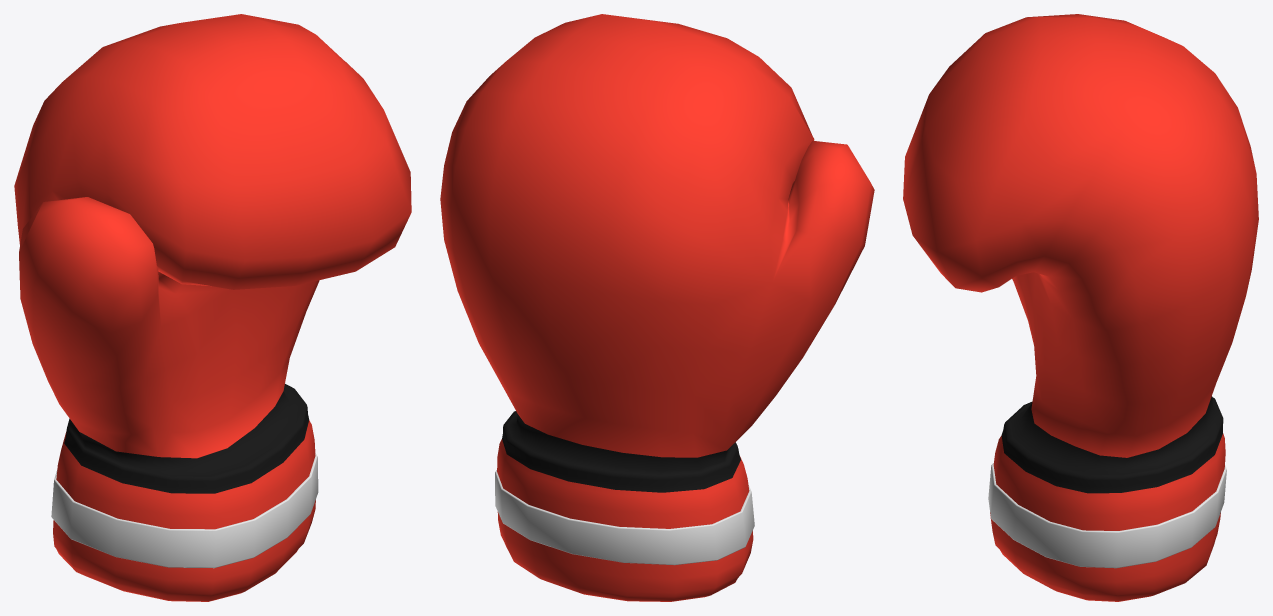
The model's file is Boxing_Glove_L.fbx.
3 views of the same model, side by side, from view 1: azimuth 30°, elevation 25°; view 2: azimuth 150°, elevation 25°; view 3: azimuth 270°, elevation 25° (orthographic). The views are drawn at different scales.
Parts seen in each view (by area): view 1: Boxing Glove_L; view 2: Boxing Glove_L; view 3: Boxing Glove_L.
Boxes of the visible parts, <box> form: Boxing Glove_L: <box>14,14,411,601</box>; Boxing Glove_L: <box>440,14,874,601</box>; Boxing Glove_L: <box>903,14,1258,601</box>.
Bounding box in the file's own units: 733 × 1021 × 625.
